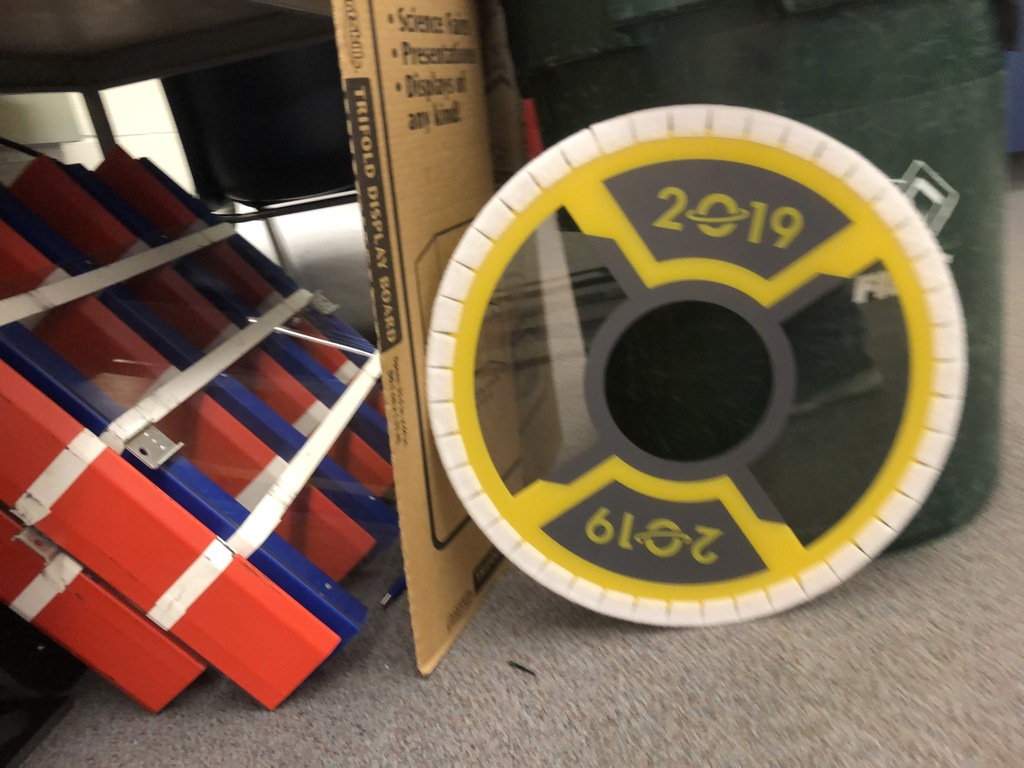hatch_panel: (411, 83, 981, 648)
